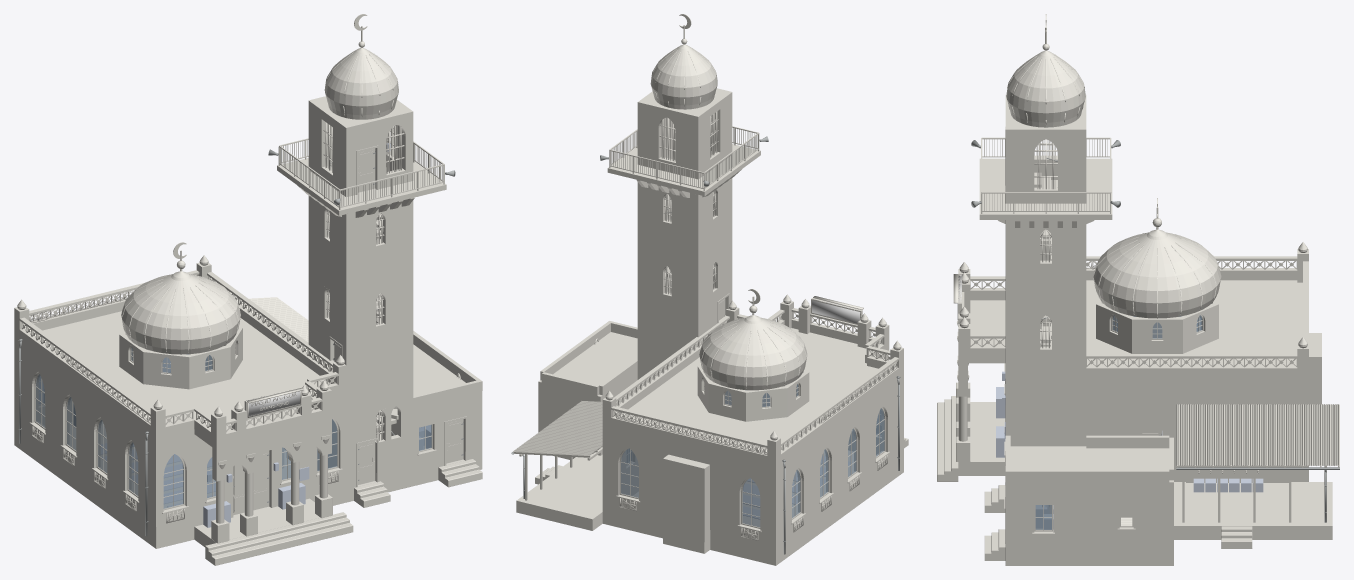
File: grand_fond_H07.glb
3 renders of one model, left to right at view 1: azimuth 30°, elevation 25°; view 2: azimuth 150°, elevation 25°; view 3: azimuth 270°, elevation 25°, orthographic. The views are drawn at different scales.
Visible parts, largest first — view 1: Shell_plaster_white, Arch_plaster_white, Shell_concrete_cast, Arch_copper_patina, Dome_main, Shell_basalt_dressed, Arch_basalt_dressed, Arch_new_paint_green_metal, Arch_glass, Drum_Wall, Arch_new_paint_green_timber, Det_plaster_white (+11 smaller); view 2: Shell_plaster_white, Shell_concrete_cast, Arch_plaster_white, Arch_copper_patina, Arch_new_paint_green_metal, Dome_main, Shell_basalt_dressed, Drum_Wall, Plattform_Waschhof_flagstone, Arch_glass, Det_plaster_white, Arch_new_paint_green_timber (+6 smaller); view 3: Shell_plaster_white, Shell_concrete_cast, Arch_new_paint_green_metal, Arch_plaster_white, Arch_copper_patina, Dome_main, Plattform_Waschhof_flagstone, Arch_basalt_dressed, Shell_basalt_dressed, Drum_Wall, Arch_concrete_cast, Plattform_Waschhof_basalt_dressed (+6 smaller).
Part boxes in pixels (bbox=[...]): Shell_plaster_white: bbox=[14, 101, 482, 526]; Arch_plaster_white: bbox=[14, 123, 482, 523]; Shell_concrete_cast: bbox=[32, 96, 465, 516]; Arch_copper_patina: bbox=[14, 47, 482, 424]; Dome_main: bbox=[121, 271, 240, 354]; Shell_basalt_dressed: bbox=[14, 423, 482, 548]; Arch_basalt_dressed: bbox=[205, 459, 482, 565]; Arch_new_paint_green_metal: bbox=[237, 127, 444, 351]; Arch_glass: bbox=[36, 347, 431, 508]; Drum_Wall: bbox=[119, 325, 242, 389]; Arch_new_paint_green_timber: bbox=[34, 145, 467, 517]; Det_plaster_white: bbox=[29, 122, 461, 523]; Shell_plaster_white: bbox=[538, 92, 903, 545]; Shell_concrete_cast: bbox=[539, 88, 887, 530]; Arch_plaster_white: bbox=[540, 112, 903, 541]; Arch_copper_patina: bbox=[540, 44, 903, 447]; Arch_new_paint_green_metal: bbox=[513, 126, 759, 500]; Dome_main: bbox=[699, 315, 807, 390]; Shell_basalt_dressed: bbox=[554, 446, 903, 565]; Drum_Wall: bbox=[697, 364, 809, 421]; Plattform_Waschhof_flagstone: bbox=[517, 454, 602, 519]; Arch_glass: bbox=[621, 384, 884, 527]; Det_plaster_white: bbox=[594, 111, 897, 540]; Arch_new_paint_green_timber: bbox=[619, 293, 885, 528]; Shell_plaster_white: bbox=[958, 129, 1321, 542]; Shell_concrete_cast: bbox=[969, 94, 1321, 532]; Arch_new_paint_green_metal: bbox=[981, 137, 1339, 522]; Arch_plaster_white: bbox=[957, 140, 1321, 534]; Arch_copper_patina: bbox=[958, 50, 1308, 472]; Dome_main: bbox=[1093, 229, 1221, 318]; Plattform_Waschhof_flagstone: bbox=[1174, 482, 1332, 525]; Arch_basalt_dressed: bbox=[937, 382, 1288, 560]; Shell_basalt_dressed: bbox=[1005, 472, 1308, 565]; Drum_Wall: bbox=[1096, 290, 1218, 353]; Arch_concrete_cast: bbox=[980, 158, 1112, 347]; Plattform_Waschhof_basalt_dressed: bbox=[1174, 526, 1332, 539].
Size of the model in its own units: 17.23 by 23.2 by 17.
